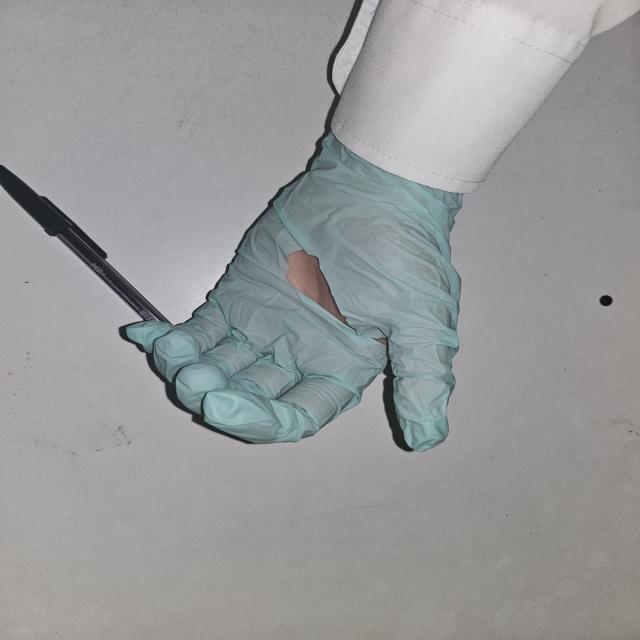gloves_damaged: (117, 126, 465, 452)
